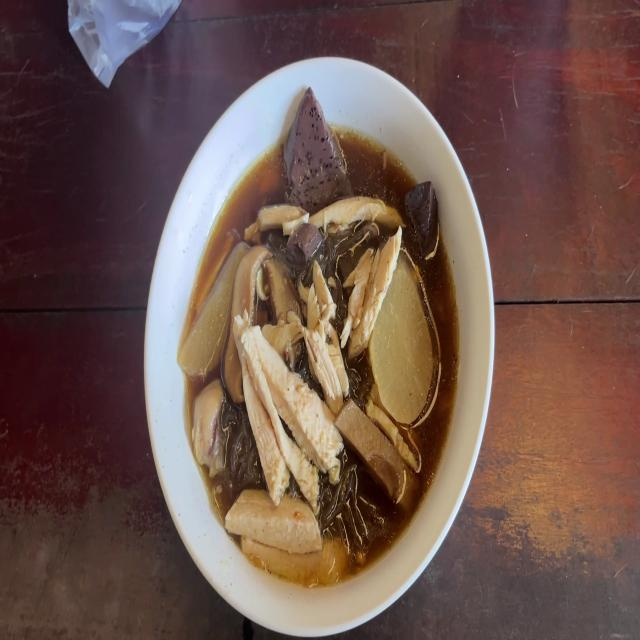noodle: (285, 96, 348, 200), (404, 172, 436, 245), (288, 224, 322, 262)
